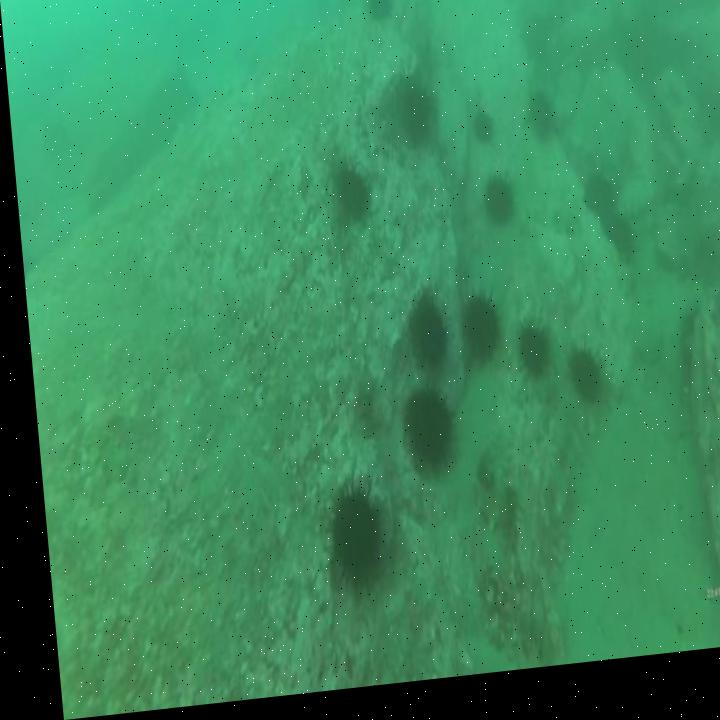echinus: (310, 477, 378, 601), (392, 390, 450, 484), (394, 292, 447, 387), (448, 297, 499, 384), (326, 163, 375, 241), (503, 326, 552, 401), (556, 352, 600, 425), (393, 91, 435, 165), (471, 179, 516, 243), (574, 181, 616, 241), (595, 222, 634, 282), (519, 20, 557, 80), (520, 97, 554, 154), (359, 0, 396, 40), (463, 118, 496, 161)
holothurian: (461, 483, 509, 548)
